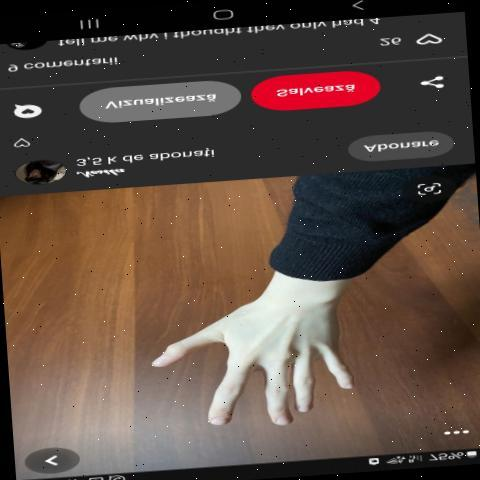Hands: (123, 286, 416, 466)
